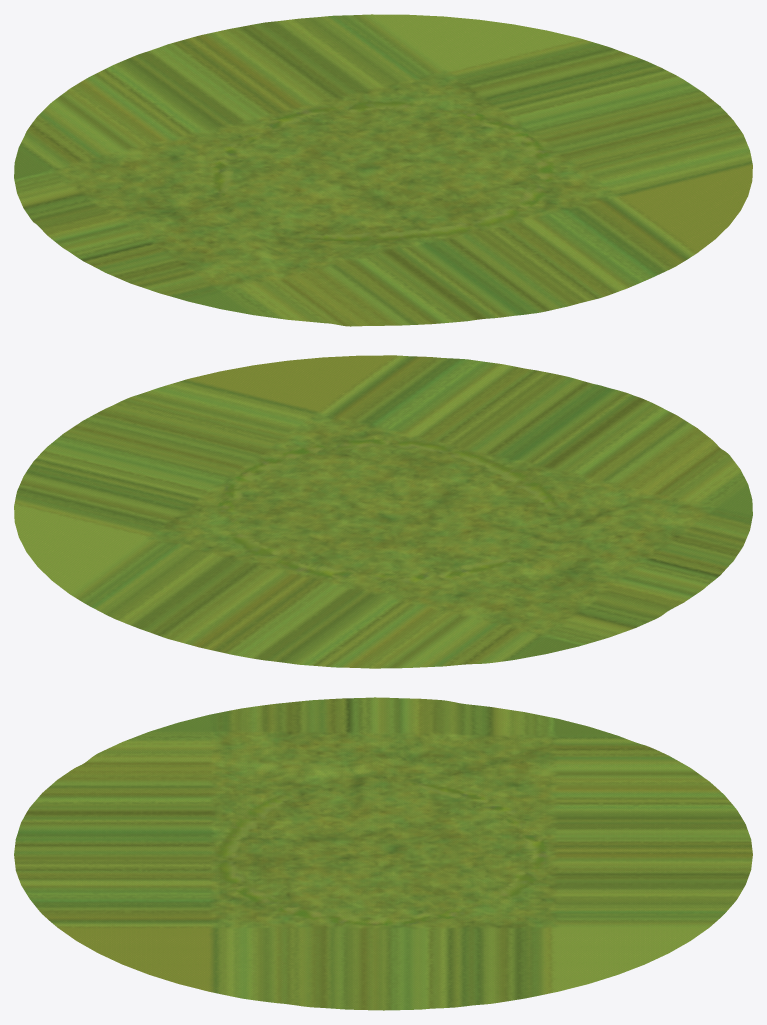
File: terrain_base.glb
3 views of the same model, one above another, from view 1: azimuth 30°, elevation 25°; view 2: azimuth 150°, elevation 25°; view 3: azimuth 270°, elevation 25° (orthographic).
Visible parts, largest first — view 1: terrain_base.surface; view 2: terrain_base.surface; view 3: terrain_base.surface.
Boxes of the visible parts, x1=… form: terrain_base.surface: x1=14, y1=14, x2=752, y2=326; terrain_base.surface: x1=14, y1=355, x2=752, y2=668; terrain_base.surface: x1=14, y1=697, x2=752, y2=1010.
Size of the model in its own units: 440 by 2.66 by 440.
Materials: 1 (1 with a texture image).
